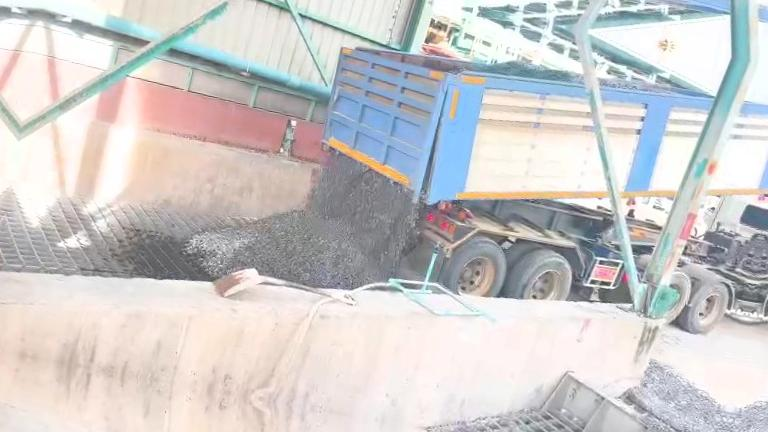gravel: (185, 155, 415, 288), (627, 361, 729, 432), (455, 60, 583, 84), (600, 78, 683, 93)
